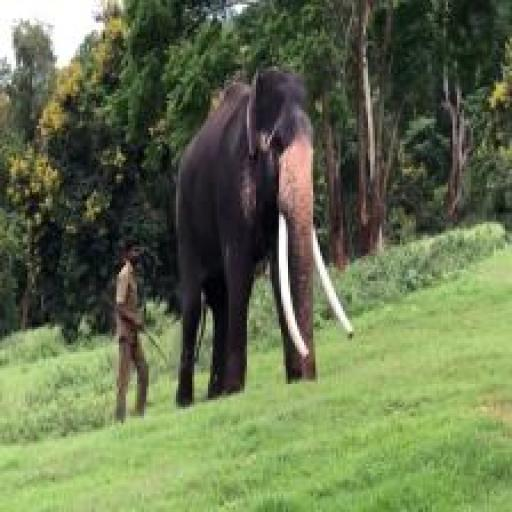Elephant: (167, 48, 360, 418)
